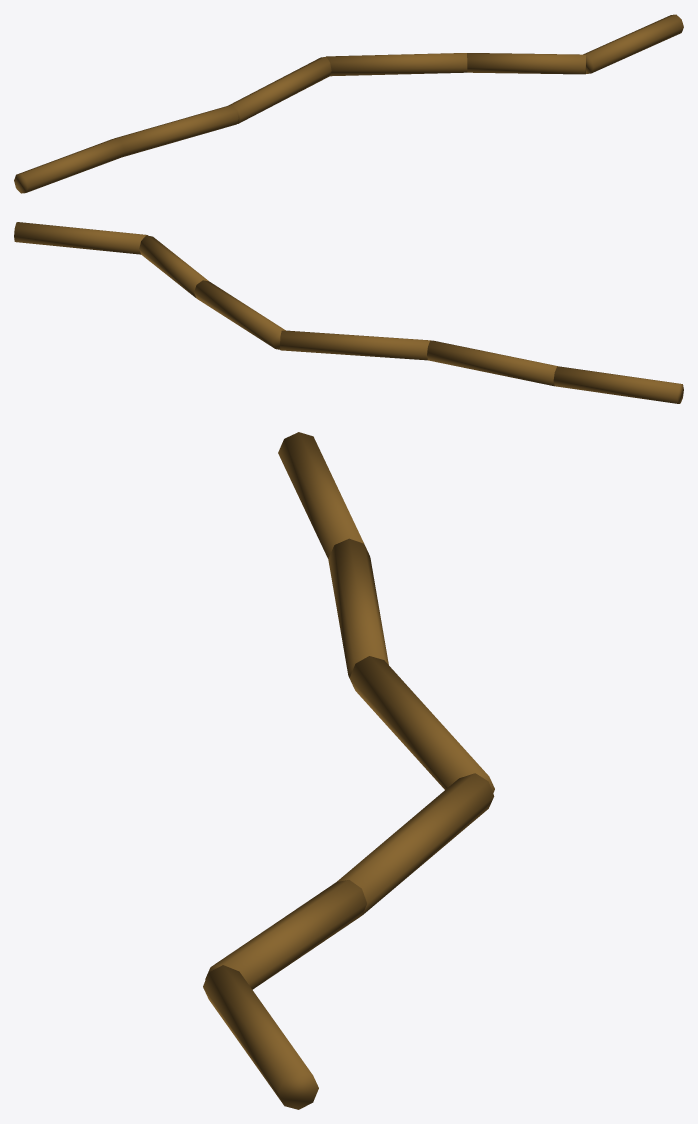
The model's file is fire-hose.glb.
3 renders of one model, top to bottom at view 1: azimuth 30°, elevation 25°; view 2: azimuth 150°, elevation 25°; view 3: azimuth 270°, elevation 25°, orthographic. The views are drawn at different scales.
Visible parts, largest first — view 1: fire-hose; view 2: fire-hose; view 3: fire-hose.
Boxes of the visible parts, bbox=[...] form: fire-hose: bbox=[14, 14, 683, 193]; fire-hose: bbox=[14, 222, 683, 403]; fire-hose: bbox=[203, 432, 494, 1109].
Size of the model in its own units: 3.02 by 0.084 by 0.5795.
1 material, 1 textured.
